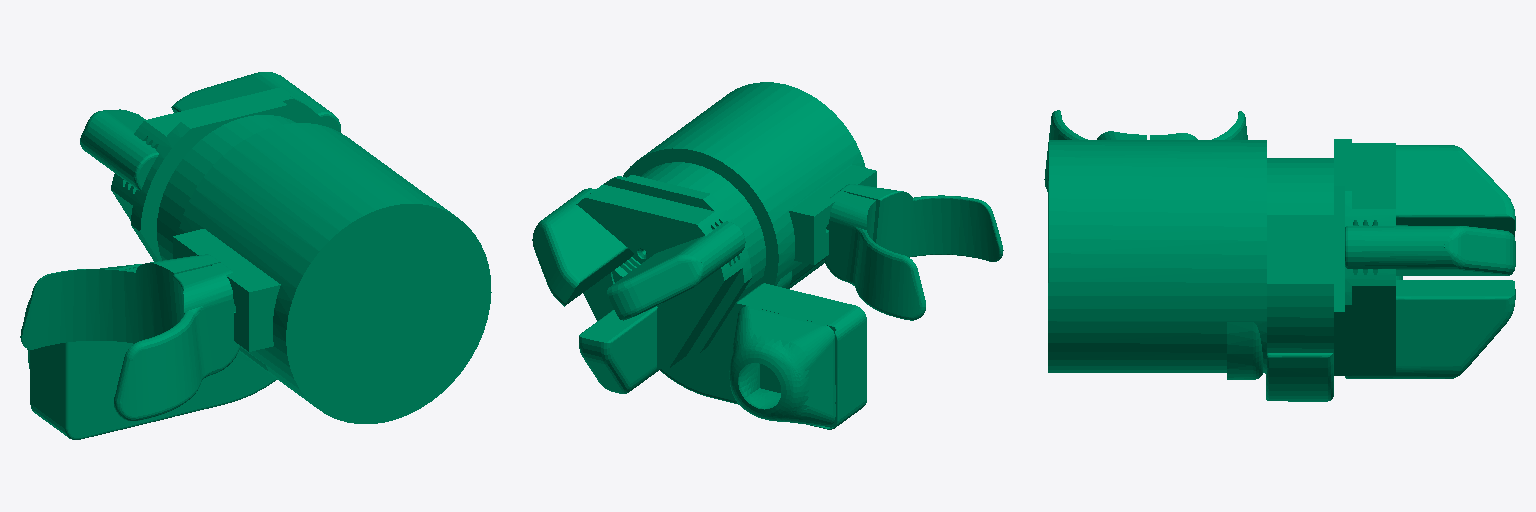
URDF robot description (ur5_with_eof):
<?xml version="1.0" ?>
<!-- =================================================================================== -->
<!-- |    This document was autogenerated by xacro from ur5_with_eof.xacro             | -->
<!-- |    EDITING THIS FILE BY HAND IS NOT RECOMMENDED                                 | -->
<!-- =================================================================================== -->
<robot name="ur5_with_eof">
  <gazebo>
    <plugin filename="libgazebo_ros_control.so" name="ros_control">
      <!--robotNamespace>/</robotNamespace-->
      <!--robotSimType>gazebo_ros_control/DefaultRobotHWSim</robotSimType-->
    </plugin>
    <!--
    <plugin name="gazebo_ros_power_monitor_controller" filename="libgazebo_ros_power_monitor.so">
      <alwaysOn>true</alwaysOn>
      <updateRate>1.0</updateRate>
      <timeout>5</timeout>
      <powerStateTopic>power_state</powerStateTopic>
      <powerStateRate>10.0</powerStateRate>
      <fullChargeCapacity>87.78</fullChargeCapacity>     
      <dischargeRate>-474</dischargeRate>
      <chargeRate>525</chargeRate>
      <dischargeVoltage>15.52</dischargeVoltage>
      <chargeVoltage>16.41</chargeVoltage>
    </plugin>
-->
  </gazebo>
  <!-- measured from model -->
  <!--property name="shoulder_height" value="0.089159" /-->
  <!--property name="shoulder_offset" value="0.13585" /-->
  <!-- shoulder_offset - elbow_offset + wrist_1_length = 0.10915 -->
  <!--property name="upper_arm_length" value="0.42500" /-->
  <!--property name="elbow_offset" value="0.1197" /-->
  <!-- CAD measured -->
  <!--property name="forearm_length" value="0.39225" /-->
  <!--property name="wrist_1_length" value="0.093" /-->
  <!-- CAD measured -->
  <!--property name="wrist_2_length" value="0.09465" /-->
  <!-- In CAD this distance is 0.930, but in the spec it is 0.09465 -->
  <!--property name="wrist_3_length" value="0.0823" /-->
  <!-- manually measured -->
  <link name="base_link">
    <visual>
      <geometry>
        <mesh filename="package://ur_description/meshes/ur5/visual/base.dae"/>
      </geometry>
      <material name="LightGrey">
        <color rgba="0.7 0.7 0.7 1.0"/>
      </material>
    </visual>
    <collision>
      <geometry>
        <mesh filename="package://ur_description/meshes/ur5/collision/base.stl"/>
      </geometry>
    </collision>
    <inertial>
      <mass value="4.0"/>
      <origin rpy="0 0 0" xyz="0.0 0.0 0.0"/>
      <inertia ixx="0.00443333156" ixy="0.0" ixz="0.0" iyy="0.00443333156" iyz="0.0" izz="0.0072"/>
    </inertial>
  </link>
  <joint name="shoulder_pan_joint" type="revolute">
    <parent link="base_link"/>
    <child link="shoulder_link"/>
    <origin rpy="0.0 0.0 0.0" xyz="0.0 0.0 0.089159"/>
    <axis xyz="0 0 1"/>
    <limit effort="150.0" lower="-6.28" upper="6.28" velocity="3.15"/>
    <dynamics damping="0.0" friction="0.0"/>
  </joint>
  <link name="shoulder_link">
    <visual>
      <geometry>
        <mesh filename="package://ur_description/meshes/ur5/visual/shoulder.dae"/>
      </geometry>
      <material name="LightGrey">
        <color rgba="0.7 0.7 0.7 1.0"/>
      </material>
    </visual>
    <collision>
      <geometry>
        <mesh filename="package://ur_description/meshes/ur5/collision/shoulder.stl"/>
      </geometry>
    </collision>
    <inertial>
      <mass value="3.7"/>
      <origin rpy="0 0 0" xyz="0.0 0.0 0.0"/>
      <inertia ixx="0.010267495893" ixy="0.0" ixz="0.0" iyy="0.010267495893" iyz="0.0" izz="0.00666"/>
    </inertial>
  </link>
  <joint name="shoulder_lift_joint" type="revolute">
    <parent link="shoulder_link"/>
    <child link="upper_arm_link"/>
    <origin rpy="0.0 1.5707963267948966 0.0" xyz="0.0 0.13585 0.0"/>
    <axis xyz="0 1 0"/>
    <limit effort="150.0" lower="-6.28" upper="6.28" velocity="3.15"/>
    <dynamics damping="0.0" friction="0.0"/>
  </joint>
  <link name="upper_arm_link">
    <visual>
      <geometry>
        <mesh filename="package://ur_description/meshes/ur5/visual/upperarm.dae"/>
      </geometry>
      <material name="LightGrey">
        <color rgba="0.7 0.7 0.7 1.0"/>
      </material>
    </visual>
    <collision>
      <geometry>
        <mesh filename="package://ur_description/meshes/ur5/collision/upperarm.stl"/>
      </geometry>
    </collision>
    <inertial>
      <mass value="8.393"/>
      <origin rpy="0 0 0" xyz="0.0 0.0 0.28"/>
      <inertia ixx="0.22689067591036005" ixy="0.0" ixz="0.0" iyy="0.22689067591036005" iyz="0.0" izz="0.0151074"/>
    </inertial>
  </link>
  <joint name="elbow_joint" type="revolute">
    <parent link="upper_arm_link"/>
    <child link="forearm_link"/>
    <origin rpy="0.0 0.0 0.0" xyz="0.0 -0.1197 0.425"/>
    <axis xyz="0 1 0"/>
    <limit effort="150.0" lower="-6.28" upper="6.28" velocity="3.15"/>
    <dynamics damping="0.0" friction="0.0"/>
  </joint>
  <link name="forearm_link">
    <visual>
      <geometry>
        <mesh filename="package://ur_description/meshes/ur5/visual/forearm.dae"/>
      </geometry>
      <material name="LightGrey">
        <color rgba="0.7 0.7 0.7 1.0"/>
      </material>
    </visual>
    <collision>
      <geometry>
        <mesh filename="package://ur_description/meshes/ur5/collision/forearm.stl"/>
      </geometry>
    </collision>
    <inertial>
      <mass value="2.275"/>
      <origin rpy="0 0 0" xyz="0.0 0.0 0.196125"/>
      <inertia ixx="0.03121679102890359" ixy="0.0" ixz="0.0" iyy="0.03121679102890359" iyz="0.0" izz="0.004095"/>
    </inertial>
  </link>
  <joint name="wrist_1_joint" type="revolute">
    <parent link="forearm_link"/>
    <child link="wrist_1_link"/>
    <origin rpy="0.0 1.5707963267948966 0.0" xyz="0.0 0.0 0.39225"/>
    <axis xyz="0 1 0"/>
    <limit effort="28.0" lower="-6.28" upper="6.28" velocity="3.2"/>
    <dynamics damping="0.0" friction="0.0"/>
  </joint>
  <link name="wrist_1_link">
    <visual>
      <geometry>
        <mesh filename="package://ur_description/meshes/ur5/visual/wrist1.dae"/>
      </geometry>
      <material name="LightGrey">
        <color rgba="0.7 0.7 0.7 1.0"/>
      </material>
    </visual>
    <collision>
      <geometry>
        <mesh filename="package://ur_description/meshes/ur5/collision/wrist1.stl"/>
      </geometry>
    </collision>
    <inertial>
      <mass value="1.219"/>
      <origin rpy="0 0 0" xyz="0.0 0.093 0.0"/>
      <inertia ixx="0.0025598989760400002" ixy="0.0" ixz="0.0" iyy="0.0025598989760400002" iyz="0.0" izz="0.0021942"/>
    </inertial>
  </link>
  <joint name="wrist_2_joint" type="revolute">
    <parent link="wrist_1_link"/>
    <child link="wrist_2_link"/>
    <origin rpy="0.0 0.0 0.0" xyz="0.0 0.093 0.0"/>
    <axis xyz="0 0 1"/>
    <limit effort="28.0" lower="-6.28" upper="6.28" velocity="3.2"/>
    <dynamics damping="0.0" friction="0.0"/>
  </joint>
  <link name="wrist_2_link">
    <visual>
      <geometry>
        <mesh filename="package://ur_description/meshes/ur5/visual/wrist2.dae"/>
      </geometry>
      <material name="LightGrey">
        <color rgba="0.7 0.7 0.7 1.0"/>
      </material>
    </visual>
    <collision>
      <geometry>
        <mesh filename="package://ur_description/meshes/ur5/collision/wrist2.stl"/>
      </geometry>
    </collision>
    <inertial>
      <mass value="1.219"/>
      <origin rpy="0 0 0" xyz="0.0 0.0 0.09465"/>
      <inertia ixx="0.0025598989760400002" ixy="0.0" ixz="0.0" iyy="0.0025598989760400002" iyz="0.0" izz="0.0021942"/>
    </inertial>
  </link>
  <joint name="wrist_3_joint" type="revolute">
    <parent link="wrist_2_link"/>
    <child link="wrist_3_link"/>
    <origin rpy="0.0 0.0 0.0" xyz="0.0 0.0 0.09465"/>
    <axis xyz="0 1 0"/>
    <limit effort="28.0" lower="-6.28" upper="6.28" velocity="3.2"/>
    <dynamics damping="0.0" friction="0.0"/>
  </joint>
  <link name="wrist_3_link">
    <visual>
      <geometry>
        <mesh filename="package://ur_description/meshes/ur5/visual/wrist3.dae"/>
      </geometry>
      <material name="LightGrey">
        <color rgba="0.7 0.7 0.7 1.0"/>
      </material>
    </visual>
    <collision>
      <geometry>
        <mesh filename="package://ur_description/meshes/ur5/collision/wrist3.stl"/>
      </geometry>
    </collision>
    <inertial>
      <mass value="0.1879"/>
      <origin rpy="1.5707963267948966 0 0" xyz="0.0 0.06505 0.0"/>
      <inertia ixx="8.469589112163e-05" ixy="0.0" ixz="0.0" iyy="8.469589112163e-05" iyz="0.0" izz="0.0001321171875"/>
    </inertial>
  </link>
  <joint name="ee_fixed_joint" type="fixed">
    <parent link="wrist_3_link"/>
    <child link="ee_link"/>
    <origin rpy="0.0 0.0 1.5707963267948966" xyz="0.0 0.0823 0.0"/>
  </joint>
  <link name="ee_link">
    <collision>
      <geometry>
        <box size="0.01 0.01 0.01"/>
      </geometry>
      <origin rpy="0 0 0" xyz="-0.01 0 0"/>
    </collision>
  </link>
  <transmission name="shoulder_pan_trans">
    <type>transmission_interface/SimpleTransmission</type>
    <joint name="shoulder_pan_joint">
      <hardwareInterface>hardware_interface/PositionJointInterface</hardwareInterface>
    </joint>
    <actuator name="shoulder_pan_motor">
      <mechanicalReduction>1</mechanicalReduction>
    </actuator>
  </transmission>
  <transmission name="shoulder_lift_trans">
    <type>transmission_interface/SimpleTransmission</type>
    <joint name="shoulder_lift_joint">
      <hardwareInterface>hardware_interface/PositionJointInterface</hardwareInterface>
    </joint>
    <actuator name="shoulder_lift_motor">
      <mechanicalReduction>1</mechanicalReduction>
    </actuator>
  </transmission>
  <transmission name="elbow_trans">
    <type>transmission_interface/SimpleTransmission</type>
    <joint name="elbow_joint">
      <hardwareInterface>hardware_interface/PositionJointInterface</hardwareInterface>
    </joint>
    <actuator name="elbow_motor">
      <mechanicalReduction>1</mechanicalReduction>
    </actuator>
  </transmission>
  <transmission name="wrist_1_trans">
    <type>transmission_interface/SimpleTransmission</type>
    <joint name="wrist_1_joint">
      <hardwareInterface>hardware_interface/PositionJointInterface</hardwareInterface>
    </joint>
    <actuator name="wrist_1_motor">
      <mechanicalReduction>1</mechanicalReduction>
    </actuator>
  </transmission>
  <transmission name="wrist_2_trans">
    <type>transmission_interface/SimpleTransmission</type>
    <joint name="wrist_2_joint">
      <hardwareInterface>hardware_interface/PositionJointInterface</hardwareInterface>
    </joint>
    <actuator name="wrist_2_motor">
      <mechanicalReduction>1</mechanicalReduction>
    </actuator>
  </transmission>
  <transmission name="wrist_3_trans">
    <type>transmission_interface/SimpleTransmission</type>
    <joint name="wrist_3_joint">
      <hardwareInterface>hardware_interface/PositionJointInterface</hardwareInterface>
    </joint>
    <actuator name="wrist_3_motor">
      <mechanicalReduction>1</mechanicalReduction>
    </actuator>
  </transmission>
  <gazebo reference="shoulder_link">
    <selfCollide>true</selfCollide>
  </gazebo>
  <gazebo reference="upper_arm_link">
    <selfCollide>true</selfCollide>
  </gazebo>
  <gazebo reference="forearm_link">
    <selfCollide>true</selfCollide>
  </gazebo>
  <gazebo reference="wrist_1_link">
    <selfCollide>true</selfCollide>
  </gazebo>
  <gazebo reference="wrist_3_link">
    <selfCollide>true</selfCollide>
  </gazebo>
  <gazebo reference="wrist_2_link">
    <selfCollide>true</selfCollide>
  </gazebo>
  <gazebo reference="ee_link">
    <selfCollide>true</selfCollide>
  </gazebo>
  <!-- ROS base_link to UR 'Base' Coordinates transform -->
  <link name="base"/>
  <joint name="base_link-base_fixed_joint" type="fixed">
    <!-- NOTE: this rotation is only needed as long as base_link itself is
                 not corrected wrt the real robot (ie: rotated over 180
                 degrees)
      -->
    <origin rpy="0 0 0" xyz="0 0 0"/>
    <parent link="base_link"/>
    <child link="base"/>
  </joint>
  <!-- Frame coincident with all-zeros TCP on UR controller -->
  <link name="tool0"/>
  <joint name="wrist_3_link-tool0_fixed_joint" type="fixed">
    <origin rpy="-1.5707963267948966 0 0" xyz="0 0.0823 0"/>
    <parent link="wrist_3_link"/>
    <child link="tool0"/>
  </joint>
  <!-- Create a fixed joint with a parameterized name. -->
  <joint name="eof_joint" type="fixed">
    <!-- The parent link must be read from the robot model it is attached to. -->
    <parent link="tool0"/>
    <child link="eof"/>
    <!-- The tool is directly attached to the flange. -->
    <origin rpy="0 0 -1.57" xyz="0 0 0.05"/>
  </joint>
  <link name="eof">
    <visual>
      <geometry>
        <!-- The path to the visual meshes in the package. -->
        <mesh filename="package://ur_description/meshes/eof/eof_small.stl"/>
      </geometry>
    </visual>
    <collision>
      <geometry>
        <!-- The path to the collision meshes in the package. -->
        <mesh filename="package://ur_description/meshes/eof/eof_small.stl"/>
      </geometry>
    </collision>
  </link>
  <!-- TCP frame -->
  <joint name="tcp_joint" type="fixed">
    <origin rpy="0 0 0" xyz="0 0 0.116"/>
    <parent link="eof"/>
    <child link="tcp"/>
  </joint>
  <link name="tcp"/>
  <!-- define the ur5's position and orientation in the world coordinate system -->
  <link name="world"/>
  <joint name="world_joint" type="fixed">
    <parent link="world"/>
    <child link="base_link"/>
    <!-- TODO: check base_link name of robot -->
    <origin rpy="0.0 0.0 0.0" xyz="0.0 0.0 0.0"/>
  </joint>
</robot>

--- Facts derived from the render (not from the file) ---
Views: 3 orthographic renders of the robot side by side, from view 1: azimuth 30°, elevation 25°; view 2: azimuth 150°, elevation 25°; view 3: azimuth 270°, elevation 25°.
Robot: ur5_with_eof — 13 links, 12 joints (6 revolute, 6 fixed); root link world; default pose: all joints at 0.
Visible links, largest first — view 1: eof; view 2: eof; view 3: eof.
Boxes of the visible links, bbox=[...] form: eof: bbox=[20, 72, 491, 439]; eof: bbox=[532, 82, 1003, 429]; eof: bbox=[1044, 110, 1515, 401].
Size in the robot's own frame: 0.1366 by 0.151 by 0.0932 metres.
Meshes: 8 distinct files referenced, 1 mesh visuals loaded (1 binary STL); not drawn: 7 (reference not matched to a file when rendering).